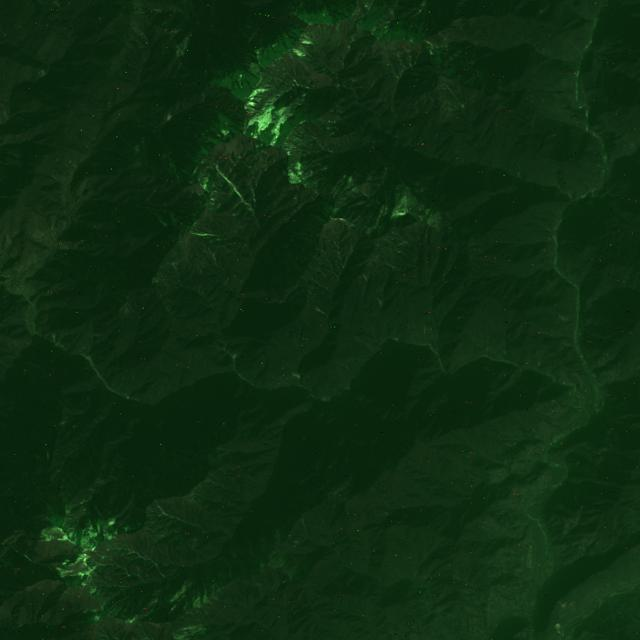landslides: (302, 25, 330, 50), (558, 37, 582, 54), (66, 499, 89, 510), (294, 44, 312, 58), (60, 414, 85, 424), (328, 36, 341, 54), (176, 523, 187, 539), (223, 557, 232, 575), (294, 537, 310, 547), (156, 210, 166, 226), (192, 231, 214, 238), (561, 340, 576, 349), (558, 600, 566, 615), (63, 417, 78, 425), (316, 307, 327, 317), (54, 354, 65, 364)
